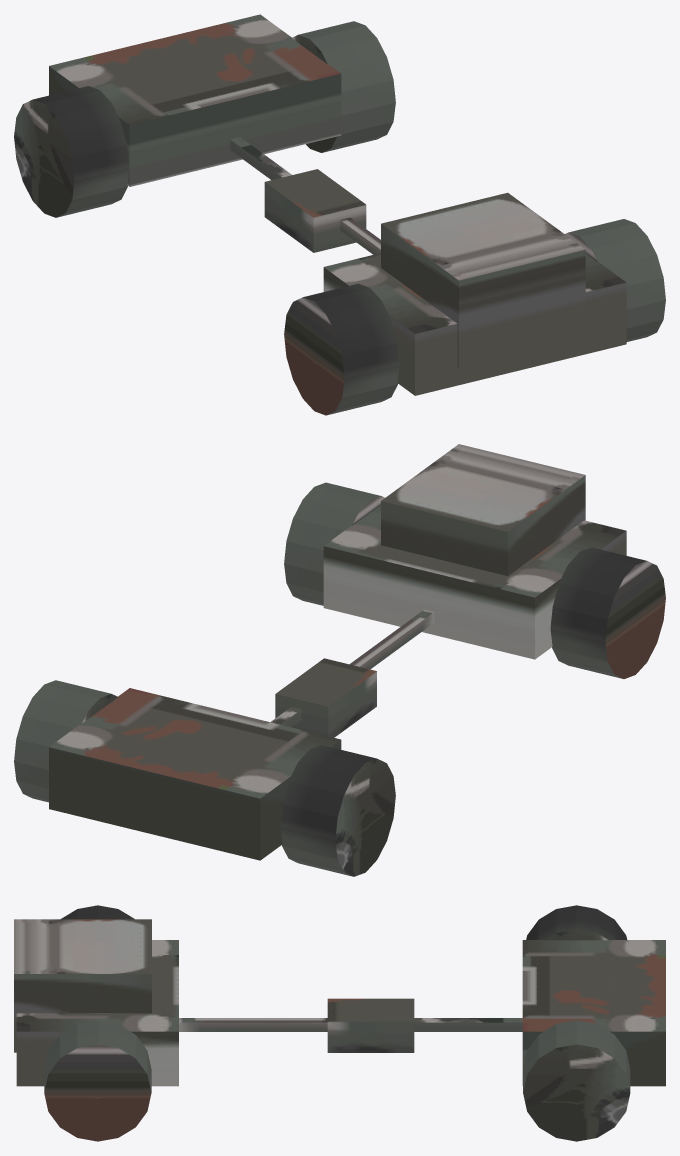
File: Building_AncientRustedCarFrame.glb
3 views of the same model, one above another, from view 1: azimuth 30°, elevation 25°; view 2: azimuth 150°, elevation 25°; view 3: azimuth 270°, elevation 25° (orthographic). The views are drawn at different scales.
Parts seen in each view (by area): view 1: AncientRustedCarFrame; view 2: AncientRustedCarFrame; view 3: AncientRustedCarFrame.
Boxes of the visible parts, left/top/right/bottom form: AncientRustedCarFrame: left=14, top=14, right=665, bottom=415; AncientRustedCarFrame: left=14, top=444, right=665, bottom=876; AncientRustedCarFrame: left=14, top=905, right=665, bottom=1141.
Size of the model in its own units: 1.9 by 0.8 by 3.77.
Materials: 1 (1 with a texture image).
